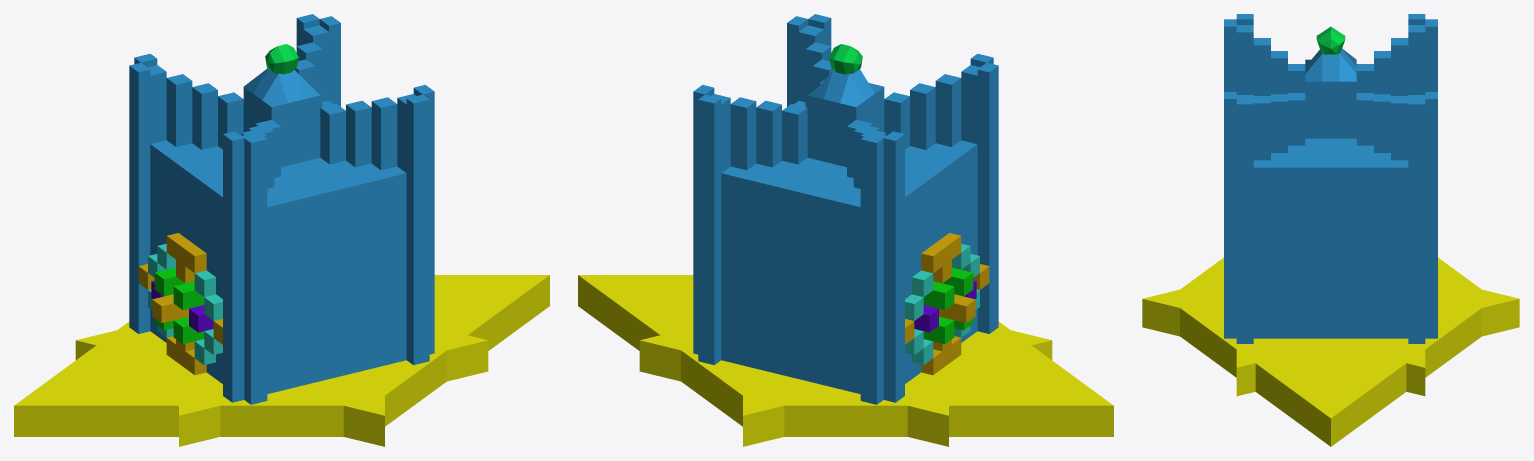
Rendered from GoodBase.fbx.
3 renders of one model, left to right at view 1: azimuth 30°, elevation 25°; view 2: azimuth 150°, elevation 25°; view 3: azimuth 270°, elevation 25°, orthographic. The views are drawn at different scales.
Visible parts, largest first — view 1: Cube, Cylinder.001; view 2: Cube, Cylinder.001; view 3: Cube, Cylinder.001.
Part boxes in pixels (x1,y1,x2,y2): Cube: (129,14,434,404); Cylinder.001: (14,275,549,446); Cube: (693,14,998,404); Cylinder.001: (578,275,1113,446); Cube: (1224,14,1437,343); Cylinder.001: (1142,257,1519,446).
Bounding box in the file's own units: 9 × 5.24 × 6.
